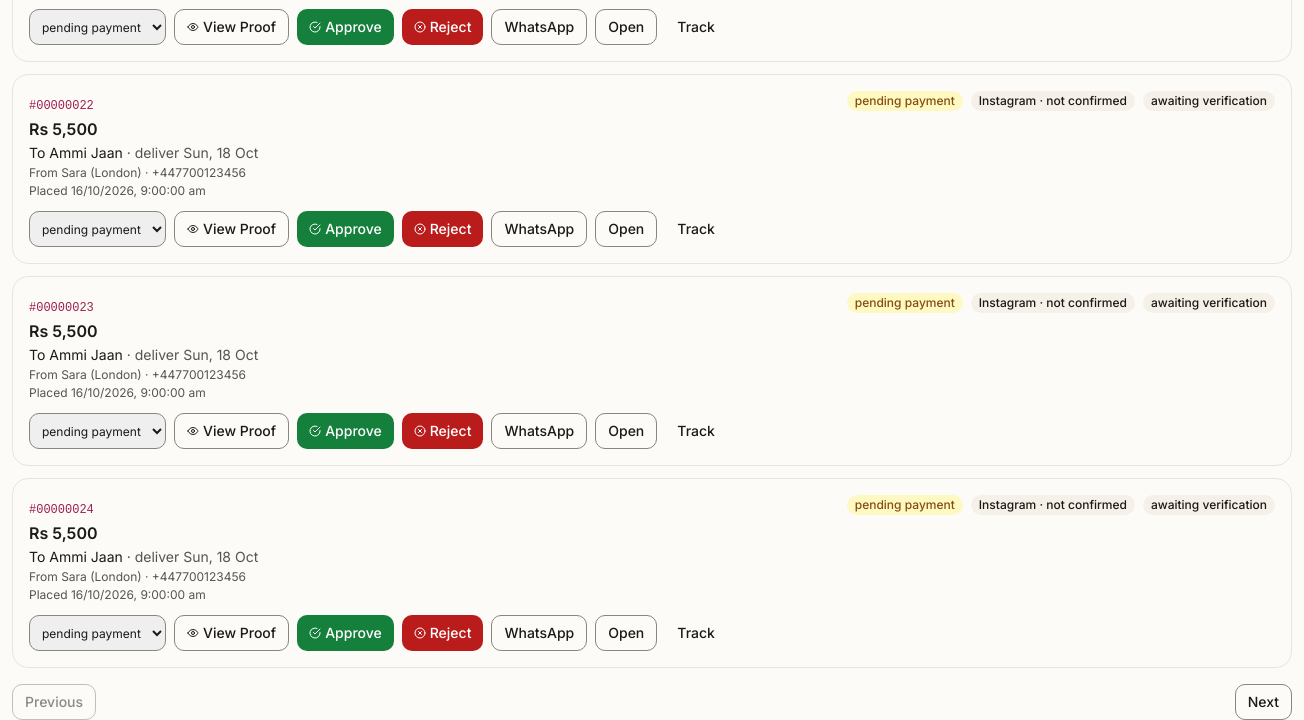
Test: OrderList › pages through results
(page scrolled)
Check: the button "Previous" is disabled, box x1=12 y1=684 x2=96 y2=719
Click the button "Next": click(1263, 702) x1=1235 y1=684 x2=1292 y2=719
(page scrolled)
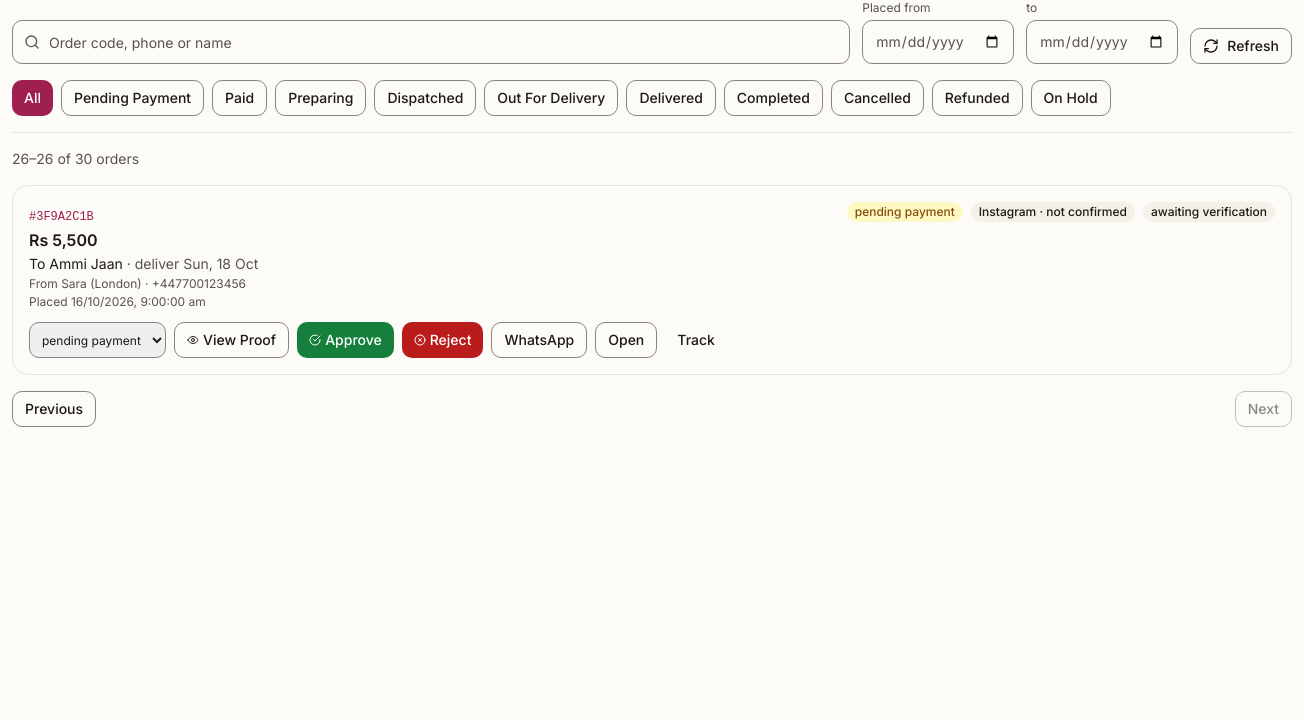
Check: the message reads "26–26 of 30 orders", box x1=12 y1=150 x2=139 y2=167
